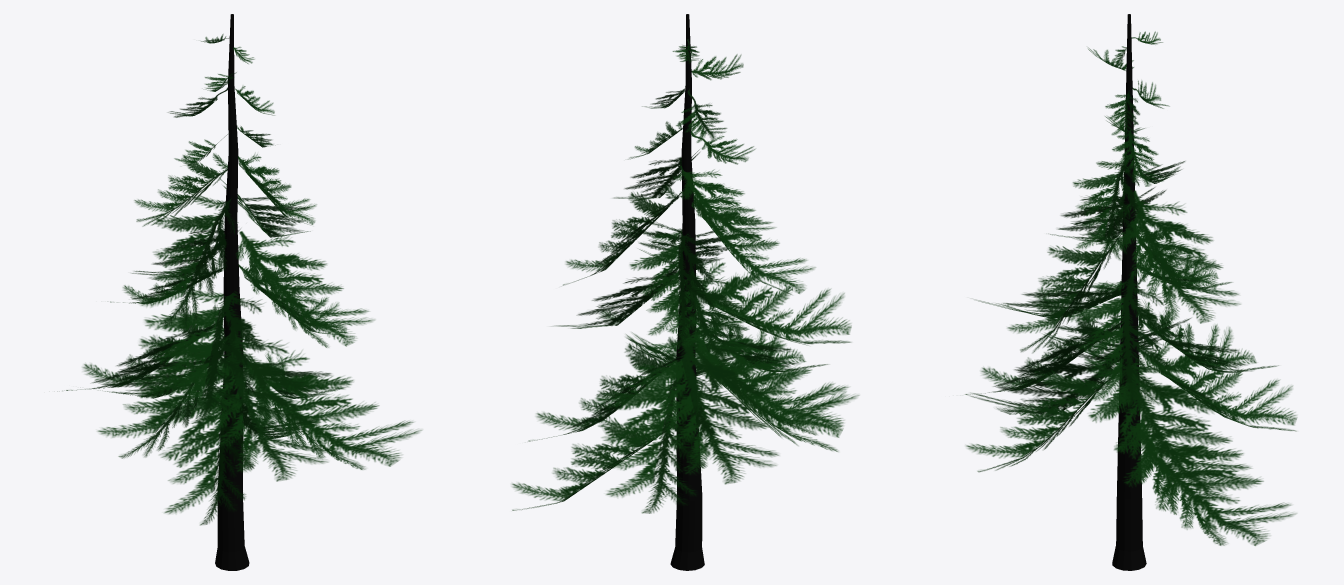
Rendered from pine.glb.
The picture shows the model from 3 angles, left to right: view 1: azimuth 30°, elevation 25°; view 2: azimuth 150°, elevation 25°; view 3: azimuth 270°, elevation 25°; orthographic projection.
Visible parts, largest first — view 1: Plane.019, Plane.001, Plane.006, Stem, Plane.012, Plane.024, Plane.009, Plane.013, Plane.020, Plane.010, Plane.005, Plane.004 (+5 smaller); view 2: Plane.020, Plane.011, Stem, Plane.013, Plane.001, Plane.022, Plane.014, Plane.012, Plane.002, Plane.009, Plane.021, Plane.010 (+9 smaller); view 3: Plane.021, Plane.002, Plane.003, Stem, Plane.004, Plane.006, Plane.011, Plane.024, Plane.005, Plane.012, Plane.019, Plane.020 (+7 smaller).
Part boxes in pixels (x1,y1,x2,y2): Plane.019: (177,328,329,481); Plane.001: (144,290,265,423); Plane.006: (234,350,421,469); Stem: (215,14,249,570); Plane.012: (148,371,259,525); Plane.024: (236,231,374,347); Plane.009: (138,195,238,327); Plane.013: (97,321,234,458); Plane.020: (66,304,223,390); Plane.010: (134,153,227,226); Plane.005: (238,154,316,224); Plane.004: (220,179,310,237); Plane.020: (627,327,778,484); Plane.011: (595,356,716,513); Stem: (670,14,704,570); Plane.013: (682,315,859,435); Plane.001: (696,258,851,345); Plane.022: (629,230,714,343); Plane.014: (651,269,755,367); Plane.012: (696,331,846,451); Plane.002: (512,409,664,510); Plane.009: (691,193,815,294); Plane.021: (528,337,676,441); Plane.010: (673,166,775,241); Plane.021: (1088,361,1252,502); Plane.002: (1115,426,1296,545); Plane.003: (1067,271,1173,412); Stem: (1112,14,1146,570); Plane.004: (1108,190,1240,323); Plane.006: (966,357,1124,472); Plane.011: (1139,333,1297,431); Plane.024: (1007,230,1121,353); Plane.005: (1073,158,1140,261); Plane.012: (968,347,1140,416); Plane.019: (965,312,1120,394); Plane.020: (1142,301,1278,372).
Bounding box in the file's own units: 12.66 × 20.14 × 13.76.
25 materials, 24 textured.
